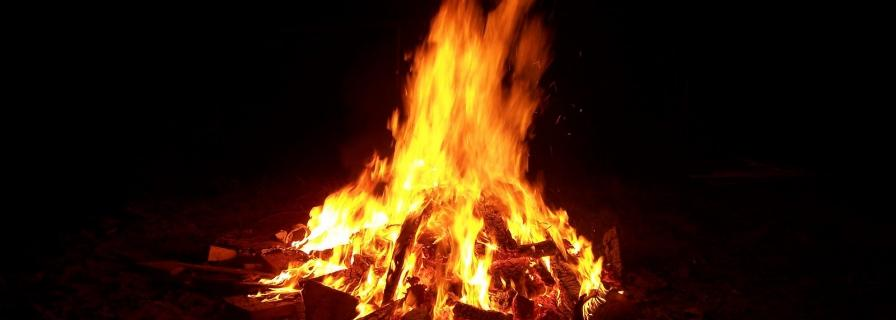fire: (315, 23, 598, 301)
